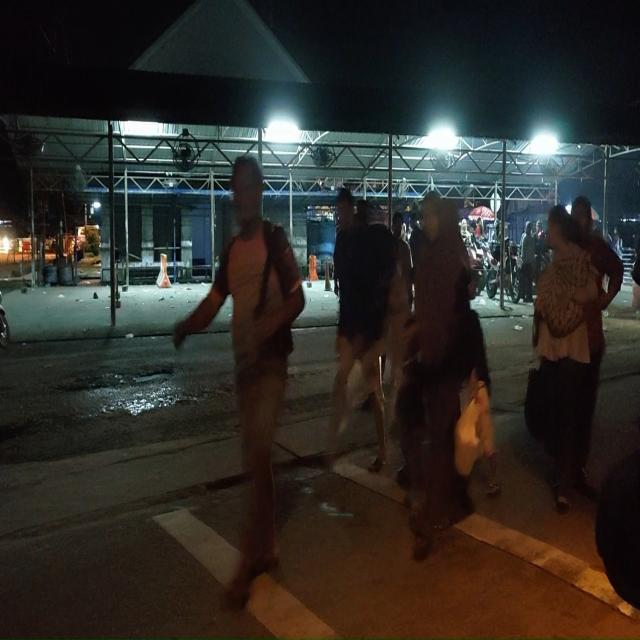Golongan II: (486, 242, 522, 304), (465, 239, 487, 296)
